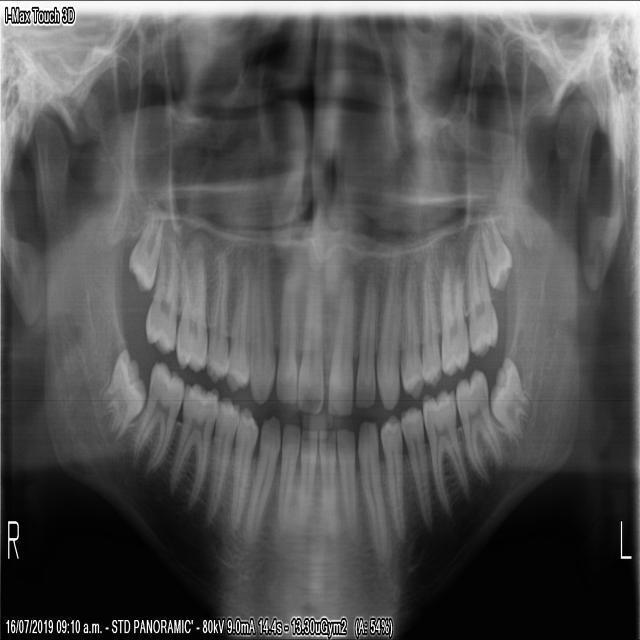LCD: (356, 415, 387, 569)
LCU: (376, 242, 403, 415)
LID: (318, 427, 341, 545), (336, 423, 358, 544)
LIU: (325, 268, 354, 418), (353, 267, 376, 410)
LMD: (420, 385, 471, 521), (454, 363, 504, 488), (489, 350, 534, 444)
LMU: (466, 226, 499, 360), (439, 255, 471, 378), (420, 249, 443, 388), (479, 209, 514, 294)
LPMD: (399, 402, 435, 533), (377, 412, 405, 544)
LPMU: (399, 260, 424, 401)
RCD: (240, 411, 280, 544)
RCU: (248, 227, 273, 407)
RID: (274, 420, 298, 540), (295, 426, 316, 536)
RIU: (296, 254, 324, 418), (273, 262, 300, 405)
RMD: (166, 377, 218, 511), (130, 356, 181, 477), (94, 343, 145, 445)
RMU: (173, 228, 207, 376), (143, 230, 179, 358), (125, 202, 163, 294)
RPMD: (202, 392, 239, 528), (228, 405, 258, 533)
RPMU: (223, 244, 248, 394), (204, 244, 226, 383)
